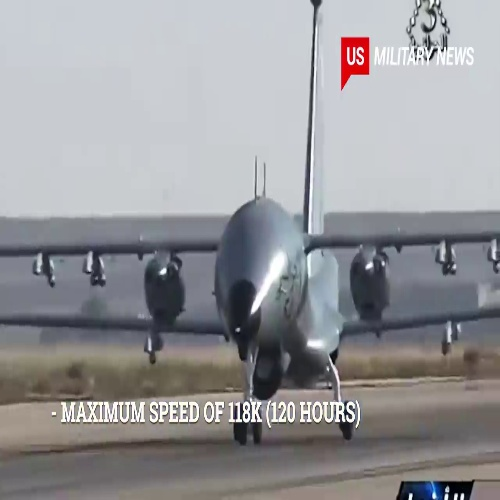uav659: (4, 4, 498, 447)
